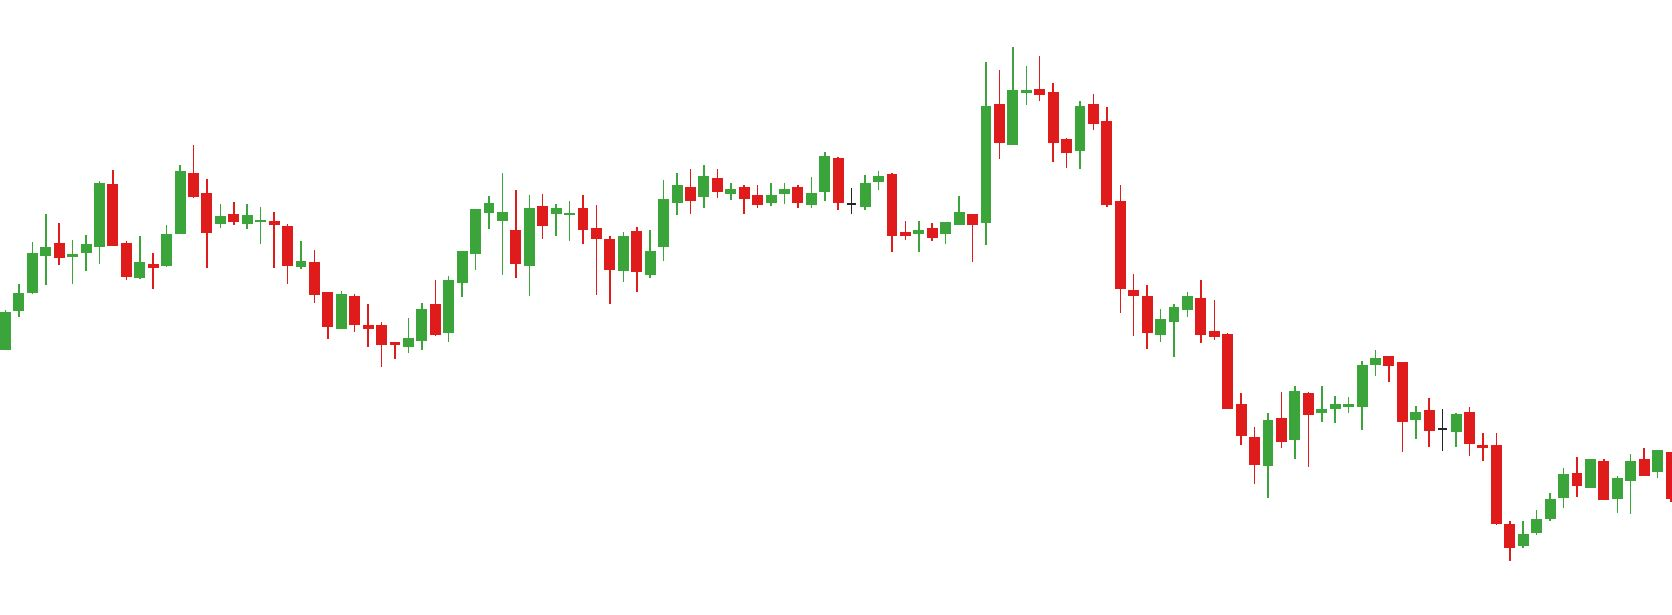sell: (90, 144, 199, 243)
